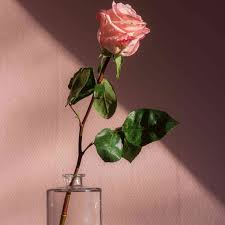rose: (95, 1, 149, 63)
